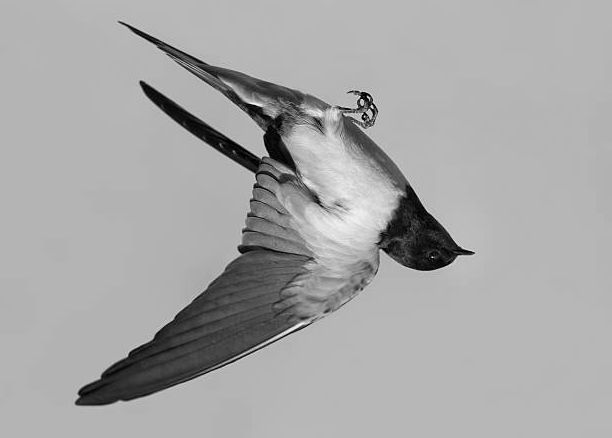Bird: (74, 18, 477, 407)
